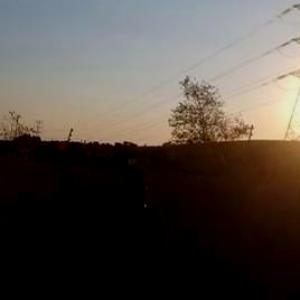follow: (94, 155, 171, 299)
